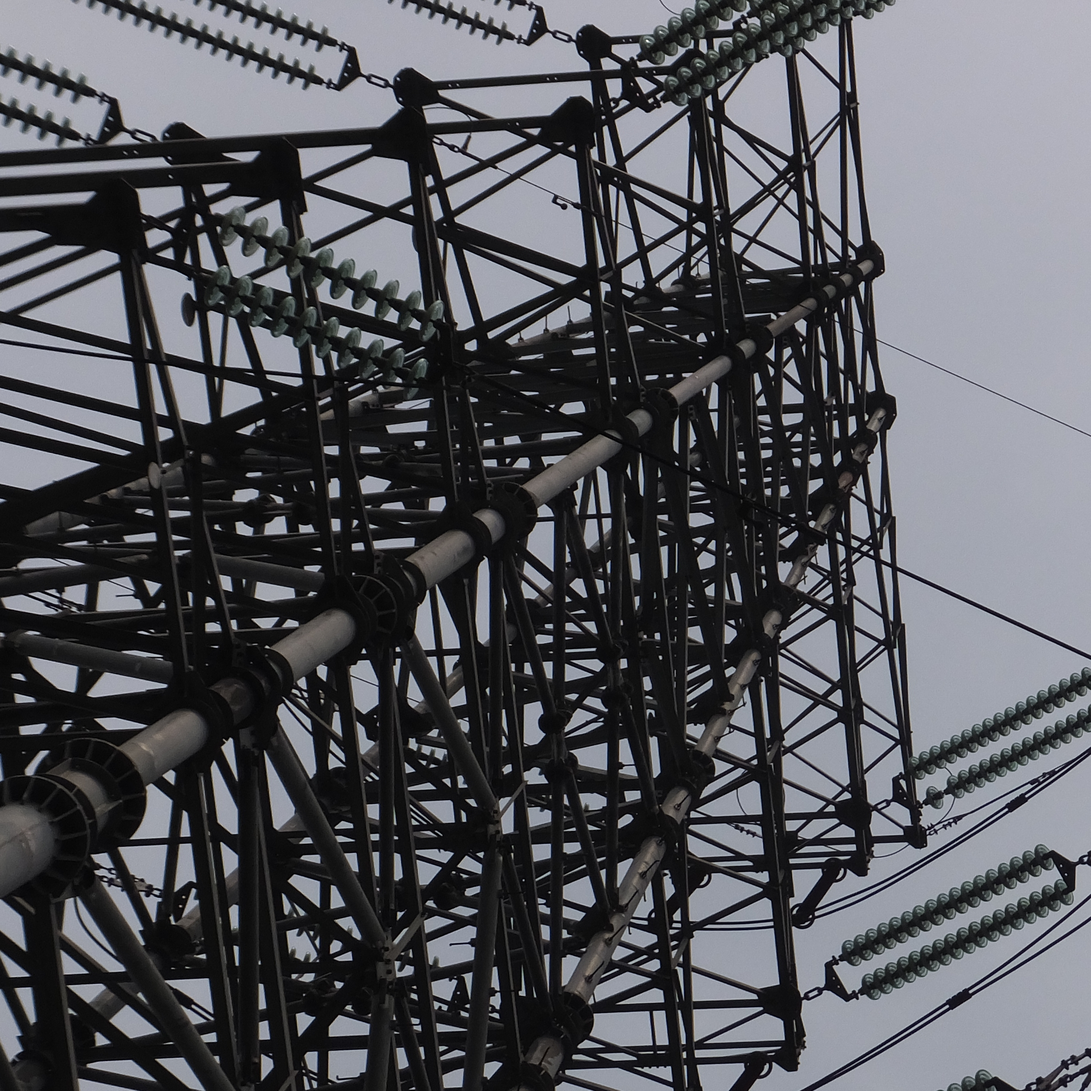绝缘子自爆区域: (932, 781, 951, 806)
